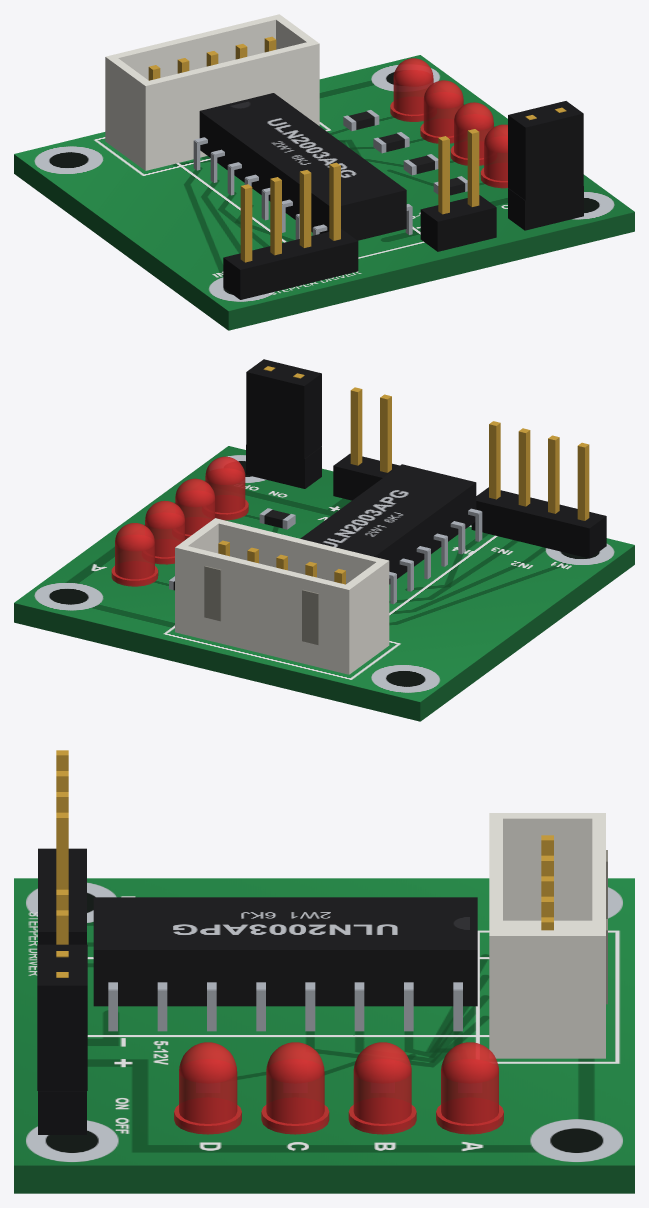
Rendered from uln2003.glb.
3 renders of one model, top to bottom at view 1: azimuth 30°, elevation 25°; view 2: azimuth 150°, elevation 25°; view 3: azimuth 270°, elevation 25°, orthographic. The views are drawn at different scales.
Parts seen in each view (by area): view 1: pcb_silkscreen, ULN2003, socket, ULN2003_chip, pcb, led_A, led_B, led_C, led_D; view 2: pcb_silkscreen, socket, ULN2003, pcb, ULN2003_chip, led_A, led_D, led_B, led_C; view 3: pcb_silkscreen, ULN2003_chip, socket, pcb, ULN2003, led_C, led_B, led_D, led_A.
Part boxes in pixels (left/top/right/bottom): pcb_silkscreen: left=14, top=55, right=634, bottom=310; ULN2003: left=223, top=101, right=583, bottom=299; socket: left=105, top=14, right=319, bottom=170; ULN2003_chip: left=193, top=93, right=412, bottom=240; pcb: left=14, top=154, right=634, bottom=330; led_A: left=390, top=58, right=433, bottom=121; led_B: left=420, top=80, right=463, bottom=143; led_C: left=450, top=102, right=493, bottom=165; led_D: left=480, top=124, right=507, bottom=188; pcb_silkscreen: left=14, top=446, right=634, bottom=701; socket: left=175, top=518, right=389, bottom=674; ULN2003: left=169, top=359, right=606, bottom=590; pcb: left=14, top=545, right=634, bottom=721; ULN2003_chip: left=300, top=464, right=482, bottom=604; led_A: left=111, top=523, right=158, bottom=586; led_D: left=205, top=456, right=248, bottom=520; led_B: left=145, top=500, right=184, bottom=564; led_C: left=175, top=478, right=215, bottom=539; pcb_silkscreen: left=14, top=878, right=634, bottom=1165; ULN2003_chip: left=93, top=897, right=477, bottom=1031; socket: left=489, top=813, right=607, bottom=1058; pcb: left=14, top=1165, right=634, bottom=1193; ULN2003: left=37, top=750, right=87, bottom=1134; led_C: left=261, top=1042, right=329, bottom=1134; led_B: left=348, top=1042, right=416, bottom=1134; led_D: left=174, top=1042, right=241, bottom=1134; led_A: left=436, top=1042, right=503, bottom=1134.
Size of the model in its own units: 3.5 by 1.02 by 3.2.
14 materials, 2 textured.
